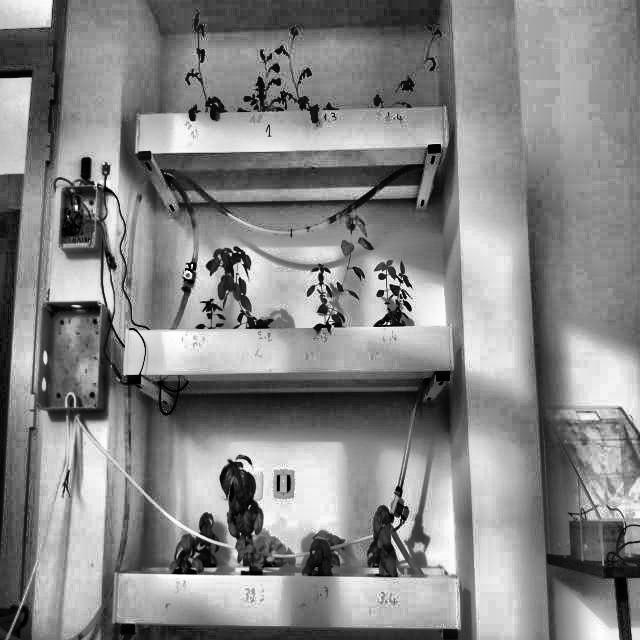plants: (322, 212, 374, 329), (370, 26, 442, 108), (217, 454, 265, 572), (280, 22, 340, 112), (206, 247, 271, 328), (182, 10, 230, 116), (234, 42, 288, 112), (366, 502, 401, 578), (376, 258, 412, 326), (308, 263, 339, 328), (304, 535, 346, 576), (194, 514, 220, 566), (170, 532, 201, 575), (193, 295, 227, 331)
